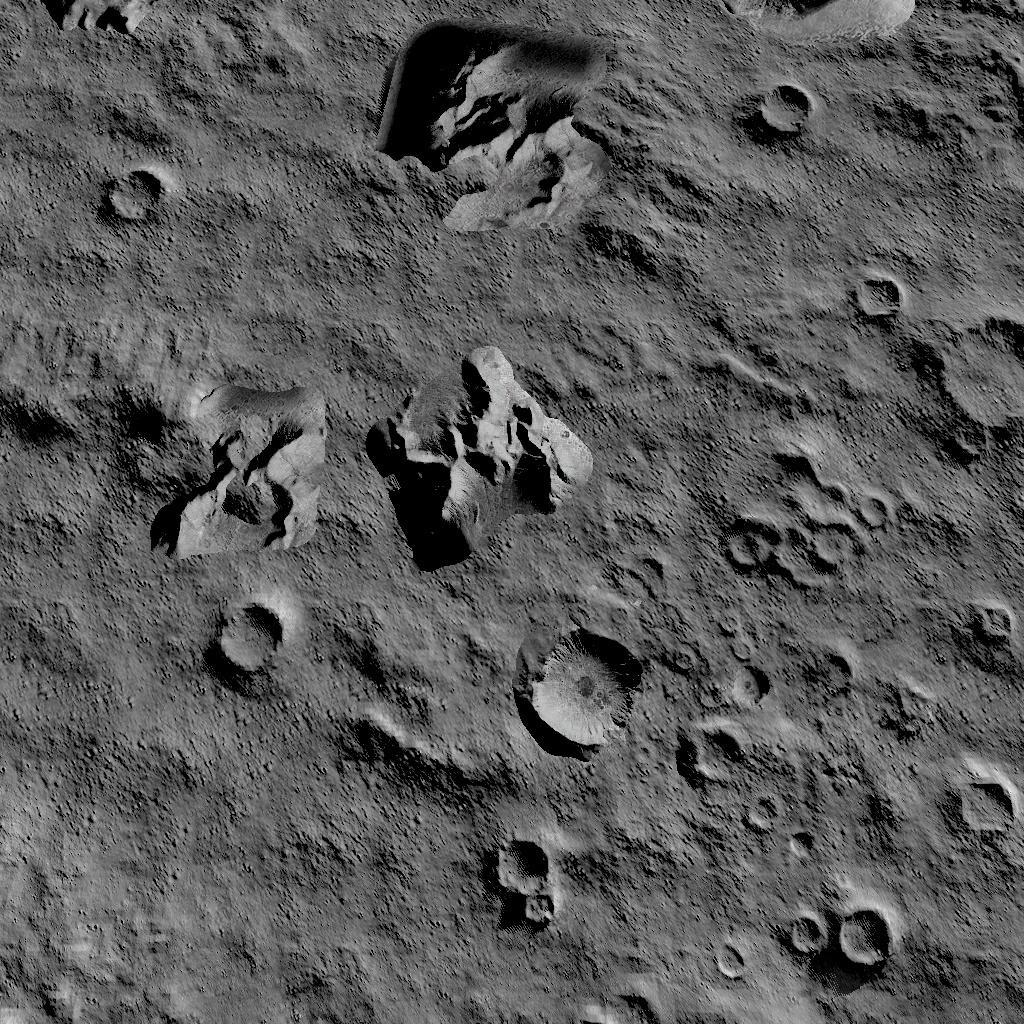Boulders: (376, 18, 703, 280), (0, 330, 323, 558), (366, 350, 593, 570), (36, 0, 310, 98)
Crater: (726, 445, 893, 590), (516, 620, 648, 758), (936, 310, 1024, 468), (776, 902, 905, 980), (200, 595, 300, 680), (484, 835, 560, 935), (681, 722, 753, 790), (751, 78, 823, 142), (846, 265, 913, 333), (98, 168, 170, 228), (958, 770, 1016, 838)
Plan surface: (0, 570, 191, 1024), (206, 808, 470, 1024), (186, 108, 366, 318), (713, 155, 1024, 255)
